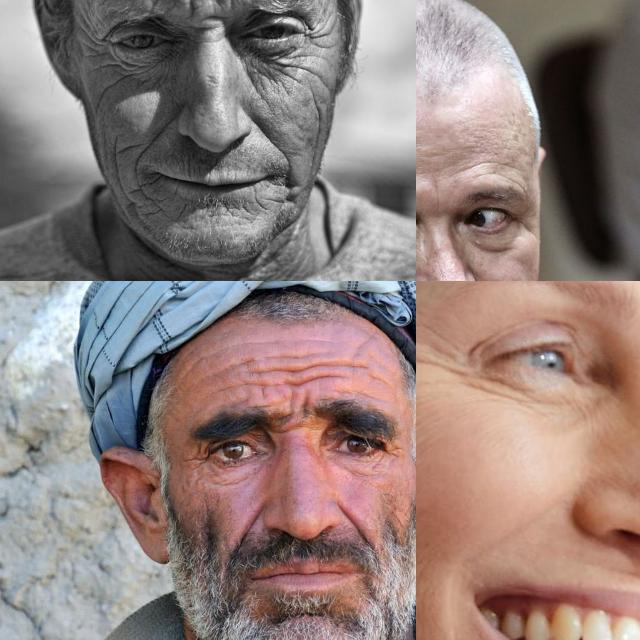chin: (172, 198, 190, 228), (252, 191, 270, 215)
crows_feet: (416, 327, 471, 387), (306, 10, 338, 54), (82, 29, 110, 65), (186, 442, 212, 468), (382, 438, 403, 466)
forehead: (468, 154, 520, 192), (320, 354, 368, 372), (270, 348, 312, 366), (283, 371, 323, 387), (230, 351, 260, 371), (182, 352, 210, 373), (246, 378, 274, 396)
frown_line: (274, 406, 296, 432), (430, 180, 444, 218), (300, 392, 314, 424)
gummy_smile: (251, 110, 289, 158), (142, 105, 174, 157), (234, 502, 262, 544), (338, 504, 369, 538)
masseter: (300, 76, 326, 146), (276, 57, 332, 89), (106, 132, 124, 188), (89, 78, 123, 106)
sad_smile: (128, 160, 162, 206)
smoker_lines: (611, 561, 640, 588)
